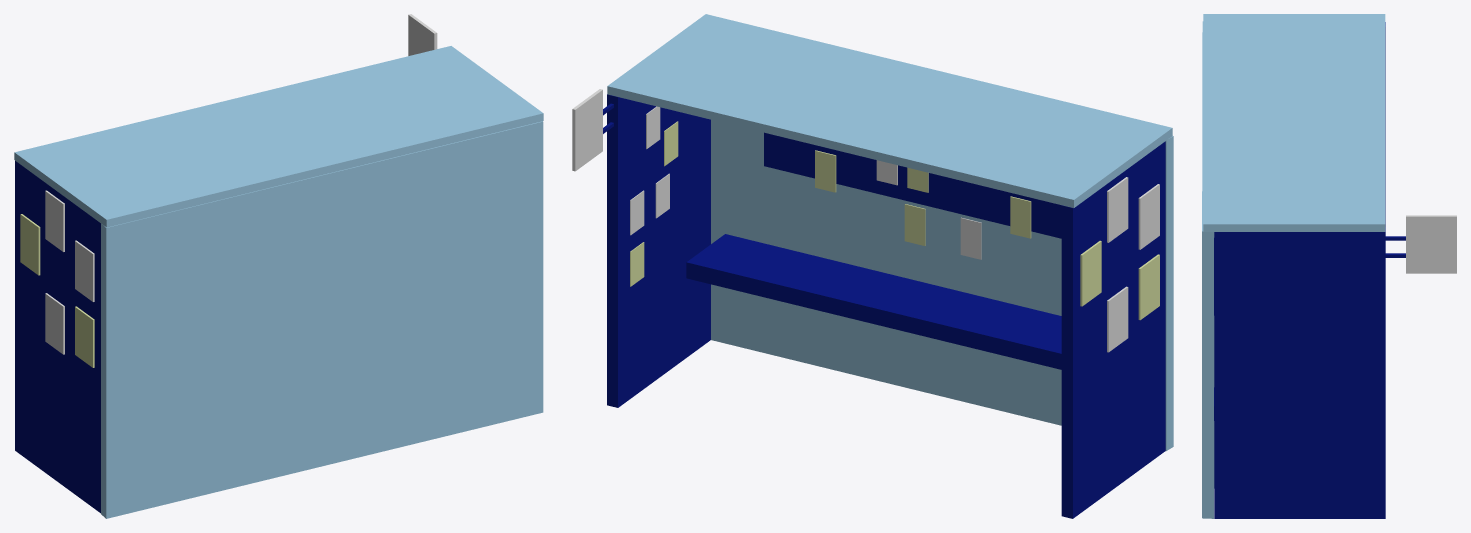
Rendered from Bus Stop .fbx.
3 renders of one model, left to right at view 1: azimuth 30°, elevation 25°; view 2: azimuth 150°, elevation 25°; view 3: azimuth 270°, elevation 25°, orthographic. The views are drawn at different scales.
Parts seen in each view (by area): view 1: Cube; view 2: Cube; view 3: Cube.
Part boxes in pixels (x1,y1,x2,y2): Cube: [14, 14, 543, 518]; Cube: [572, 14, 1173, 518]; Cube: [1202, 14, 1456, 518].
Size of the model in its own units: 582 by 387 by 298.
